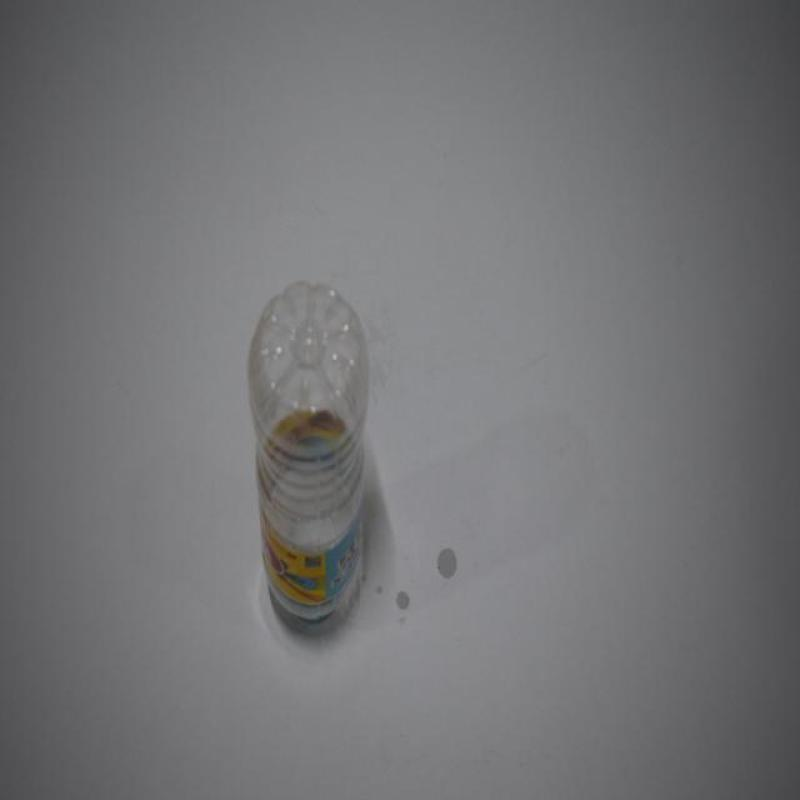botella: (248, 283, 368, 622)
